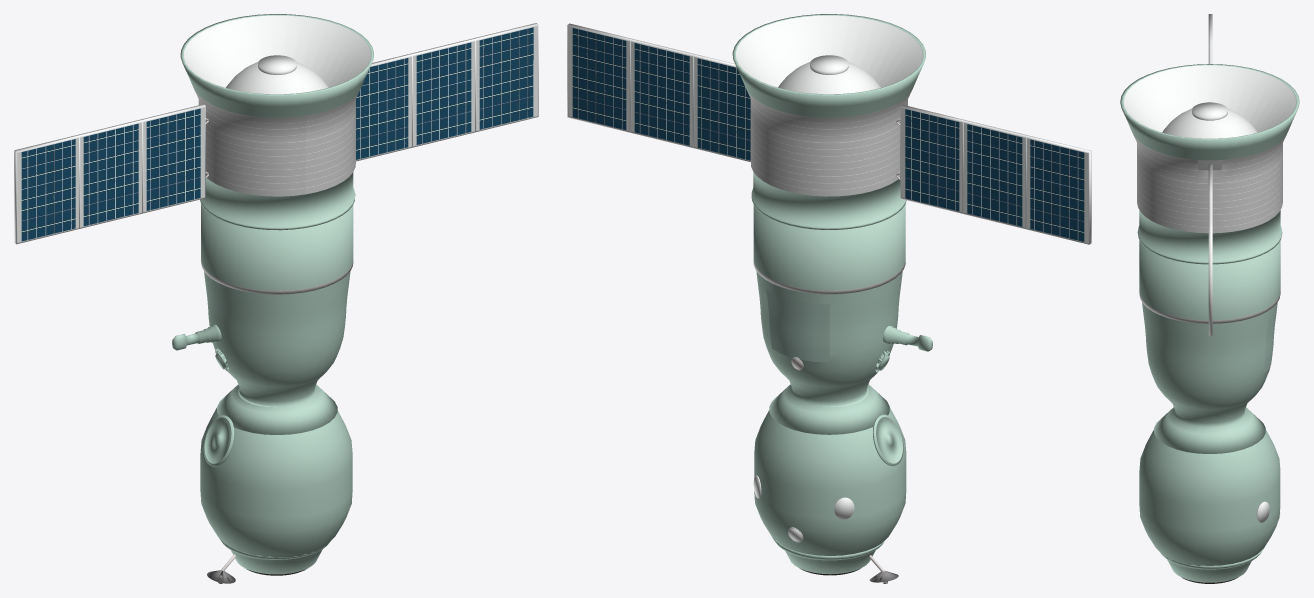
Rendered from apollo-soyuz-soyuz.glb.
3 views of the same model, side by side, from view 1: azimuth 30°, elevation 25°; view 2: azimuth 150°, elevation 25°; view 3: azimuth 270°, elevation 25° (orthographic). The views are drawn at different scales.
Visible parts, largest first — view 1: soyuz; view 2: soyuz; view 3: soyuz.
Part boxes in pixels (bbox=[...]): soyuz: bbox=[14, 14, 538, 583]; soyuz: bbox=[567, 14, 1091, 583]; soyuz: bbox=[1120, 14, 1299, 583].
Bounding box in the file's own units: 7.94 × 7.48 × 2.55.
Materials: 1 (1 with a texture image).
